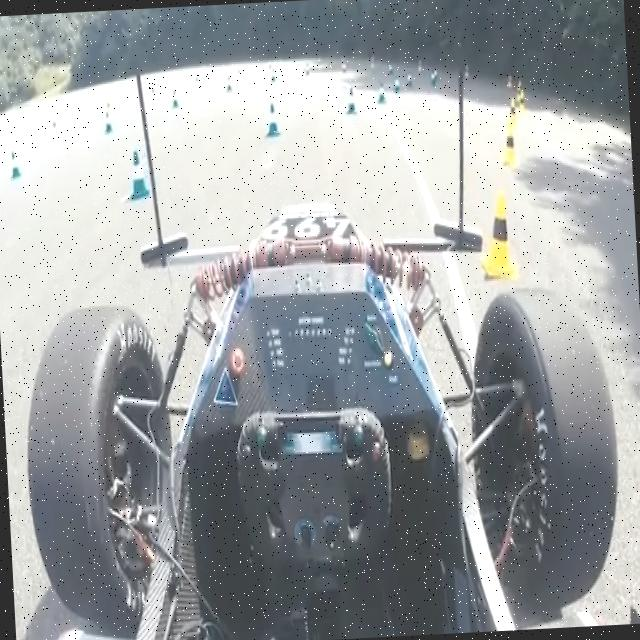blue_cone: (128, 150, 151, 202), (266, 101, 282, 138), (9, 150, 22, 182), (344, 85, 358, 114)
yellow_cone: (479, 188, 520, 281), (500, 126, 520, 168)
